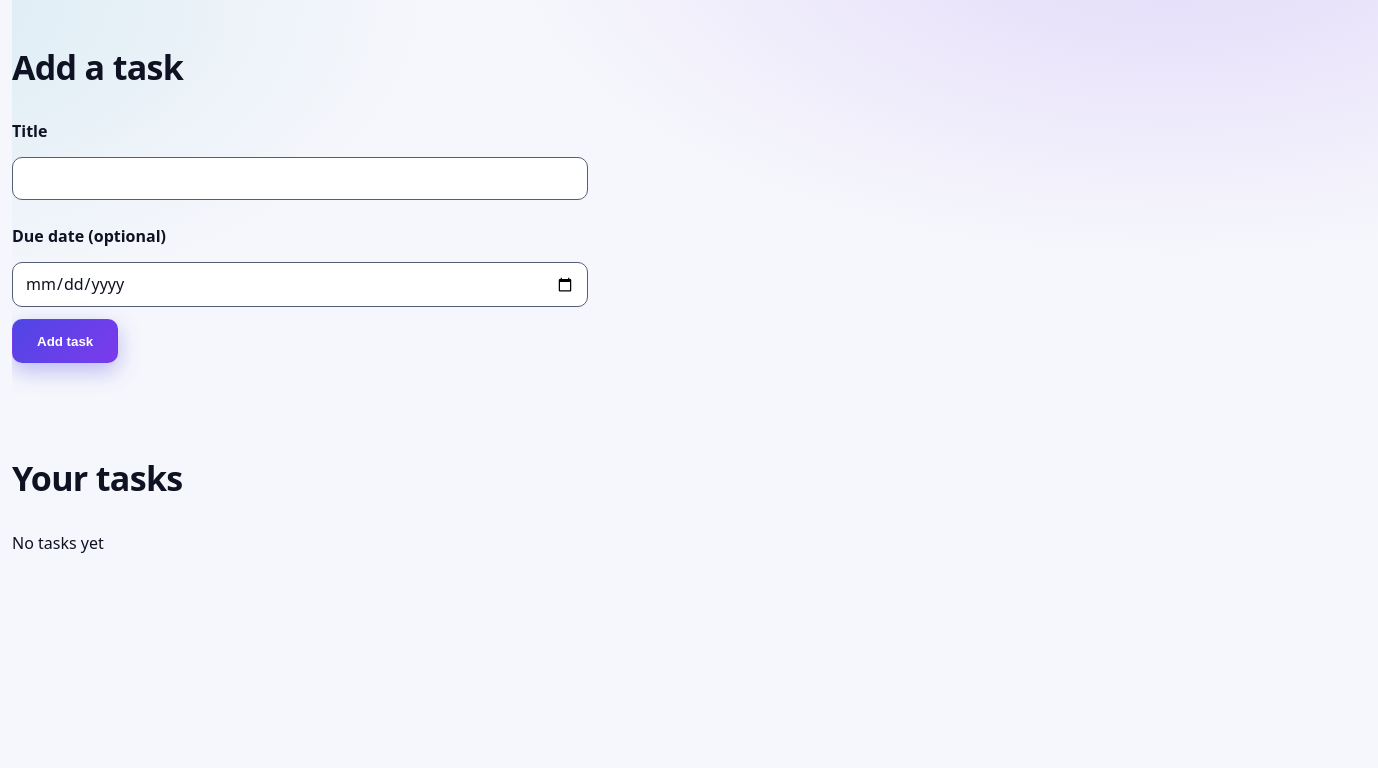
Test case: TaskBoard › AC-001.6 shows the save error in the form for any other failure and keeps values and list
The width and height of the screenshot is (1378, 768).
In the field labelled "Title": [300, 178] box [12,157,588,200], type "Buy milk"
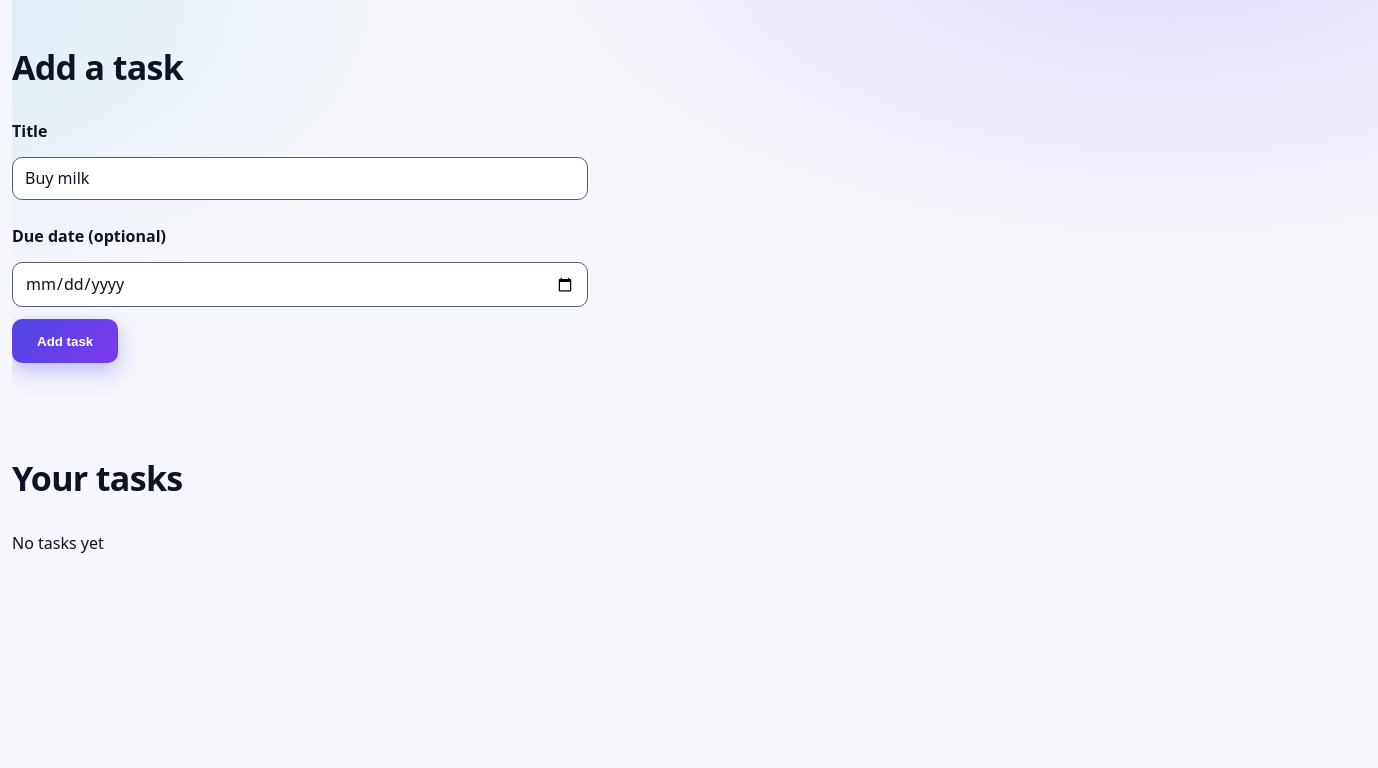
In the date field labelled "Due date (optional)": [300, 285] box [12,262,588,308], type "2026-12-24"
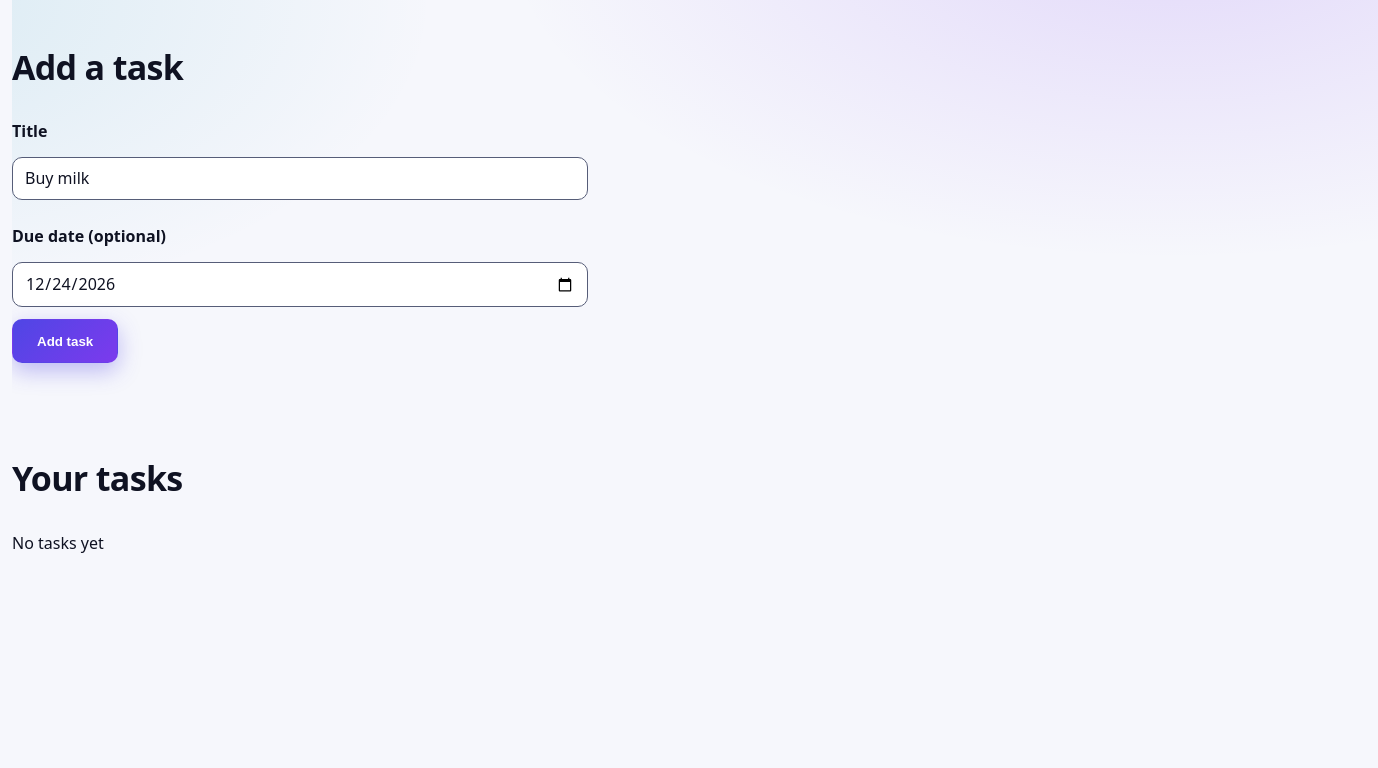
Click the button "Add task": [65, 342] box [12,320,118,364]
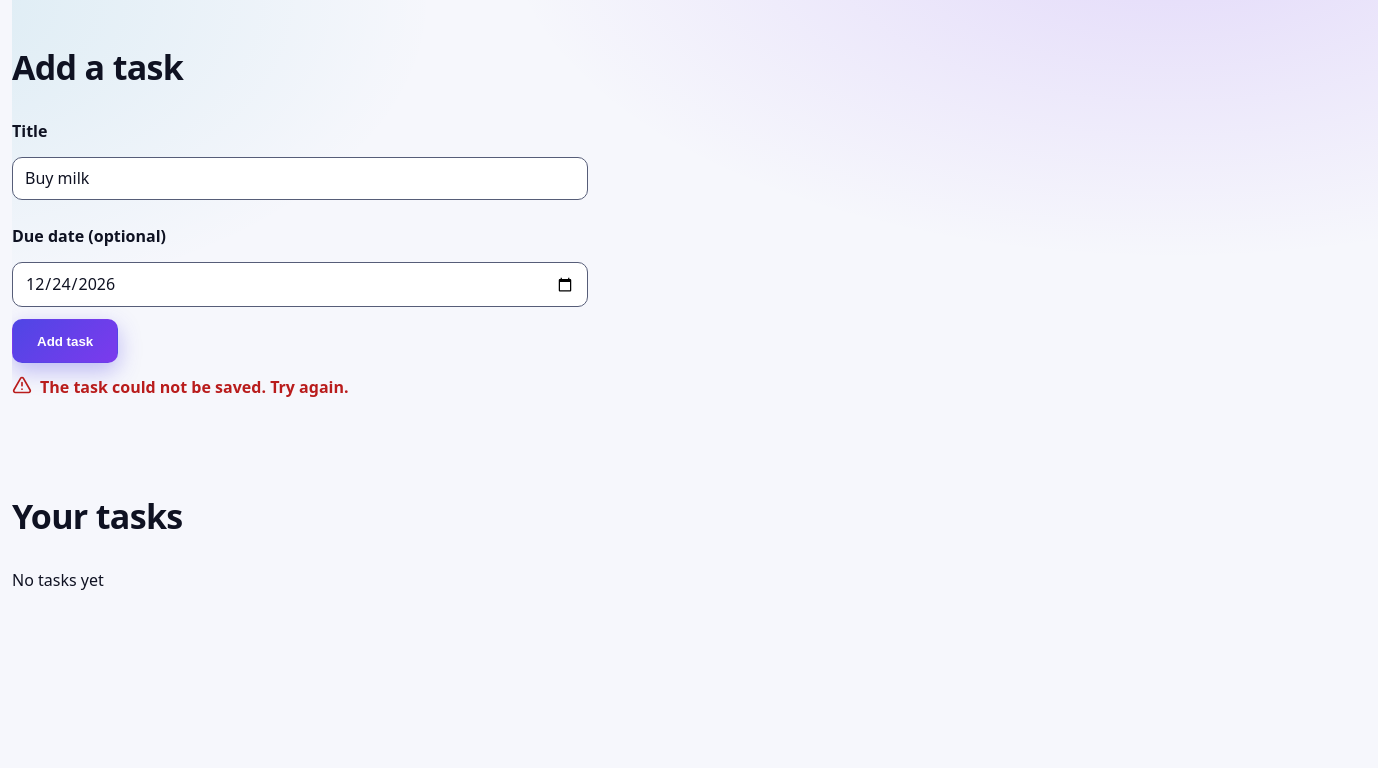
Expected: the text "No tasks yet" is shown, [12,569,104,591]
Expected: the message reads "The task could not be saved. Try again.", [40,376,348,398]
